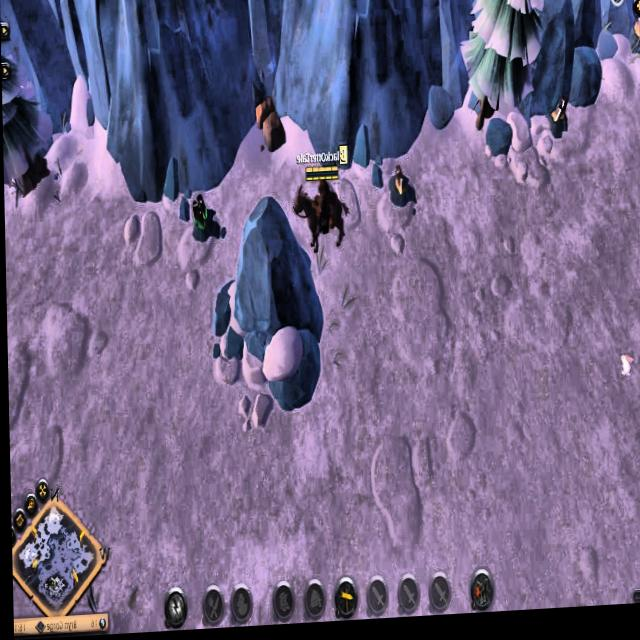copperore: (387, 162, 413, 213), (545, 97, 572, 145), (625, 22, 640, 69)
limestone: (253, 97, 286, 158)
tinore: (187, 193, 217, 247)
